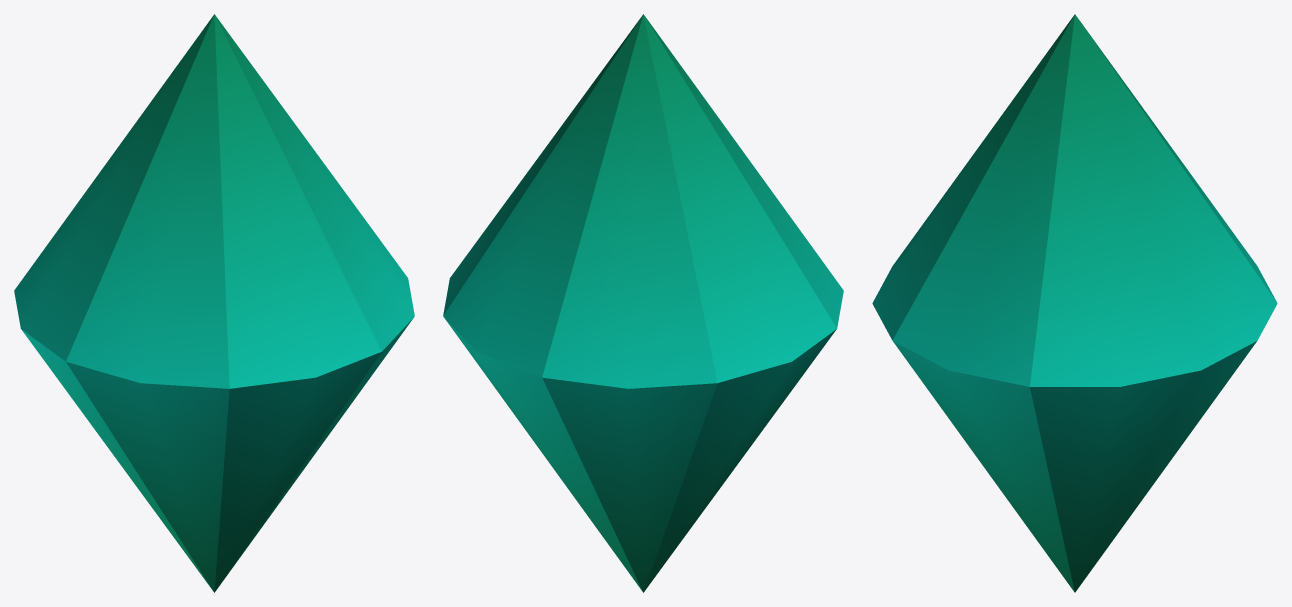
Rendered from Diamond_V3_0.fbx.
3 renders of one model, left to right at view 1: azimuth 30°, elevation 25°; view 2: azimuth 150°, elevation 25°; view 3: azimuth 270°, elevation 25°, orthographic.
Parts seen in each view (by area): view 1: Diamond_V3_0; view 2: Diamond_V3_0; view 3: Diamond_V3_0.
Boxes of the visible parts, x1=… form: Diamond_V3_0: x1=14, y1=14, x2=414, y2=592; Diamond_V3_0: x1=443, y1=14, x2=843, y2=592; Diamond_V3_0: x1=872, y1=14, x2=1277, y2=592.
Bounding box in the file's own units: 0.3373 × 0.5453 × 0.346.
